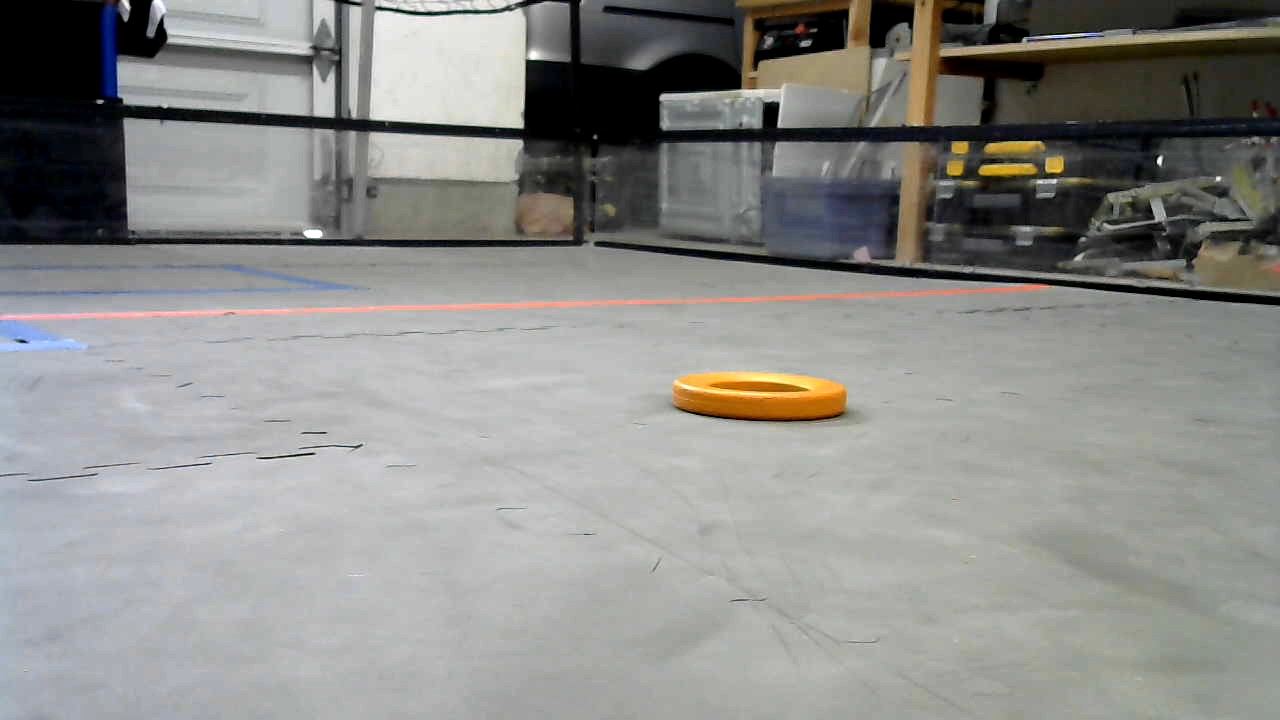OneStack: (672, 372, 845, 422)
